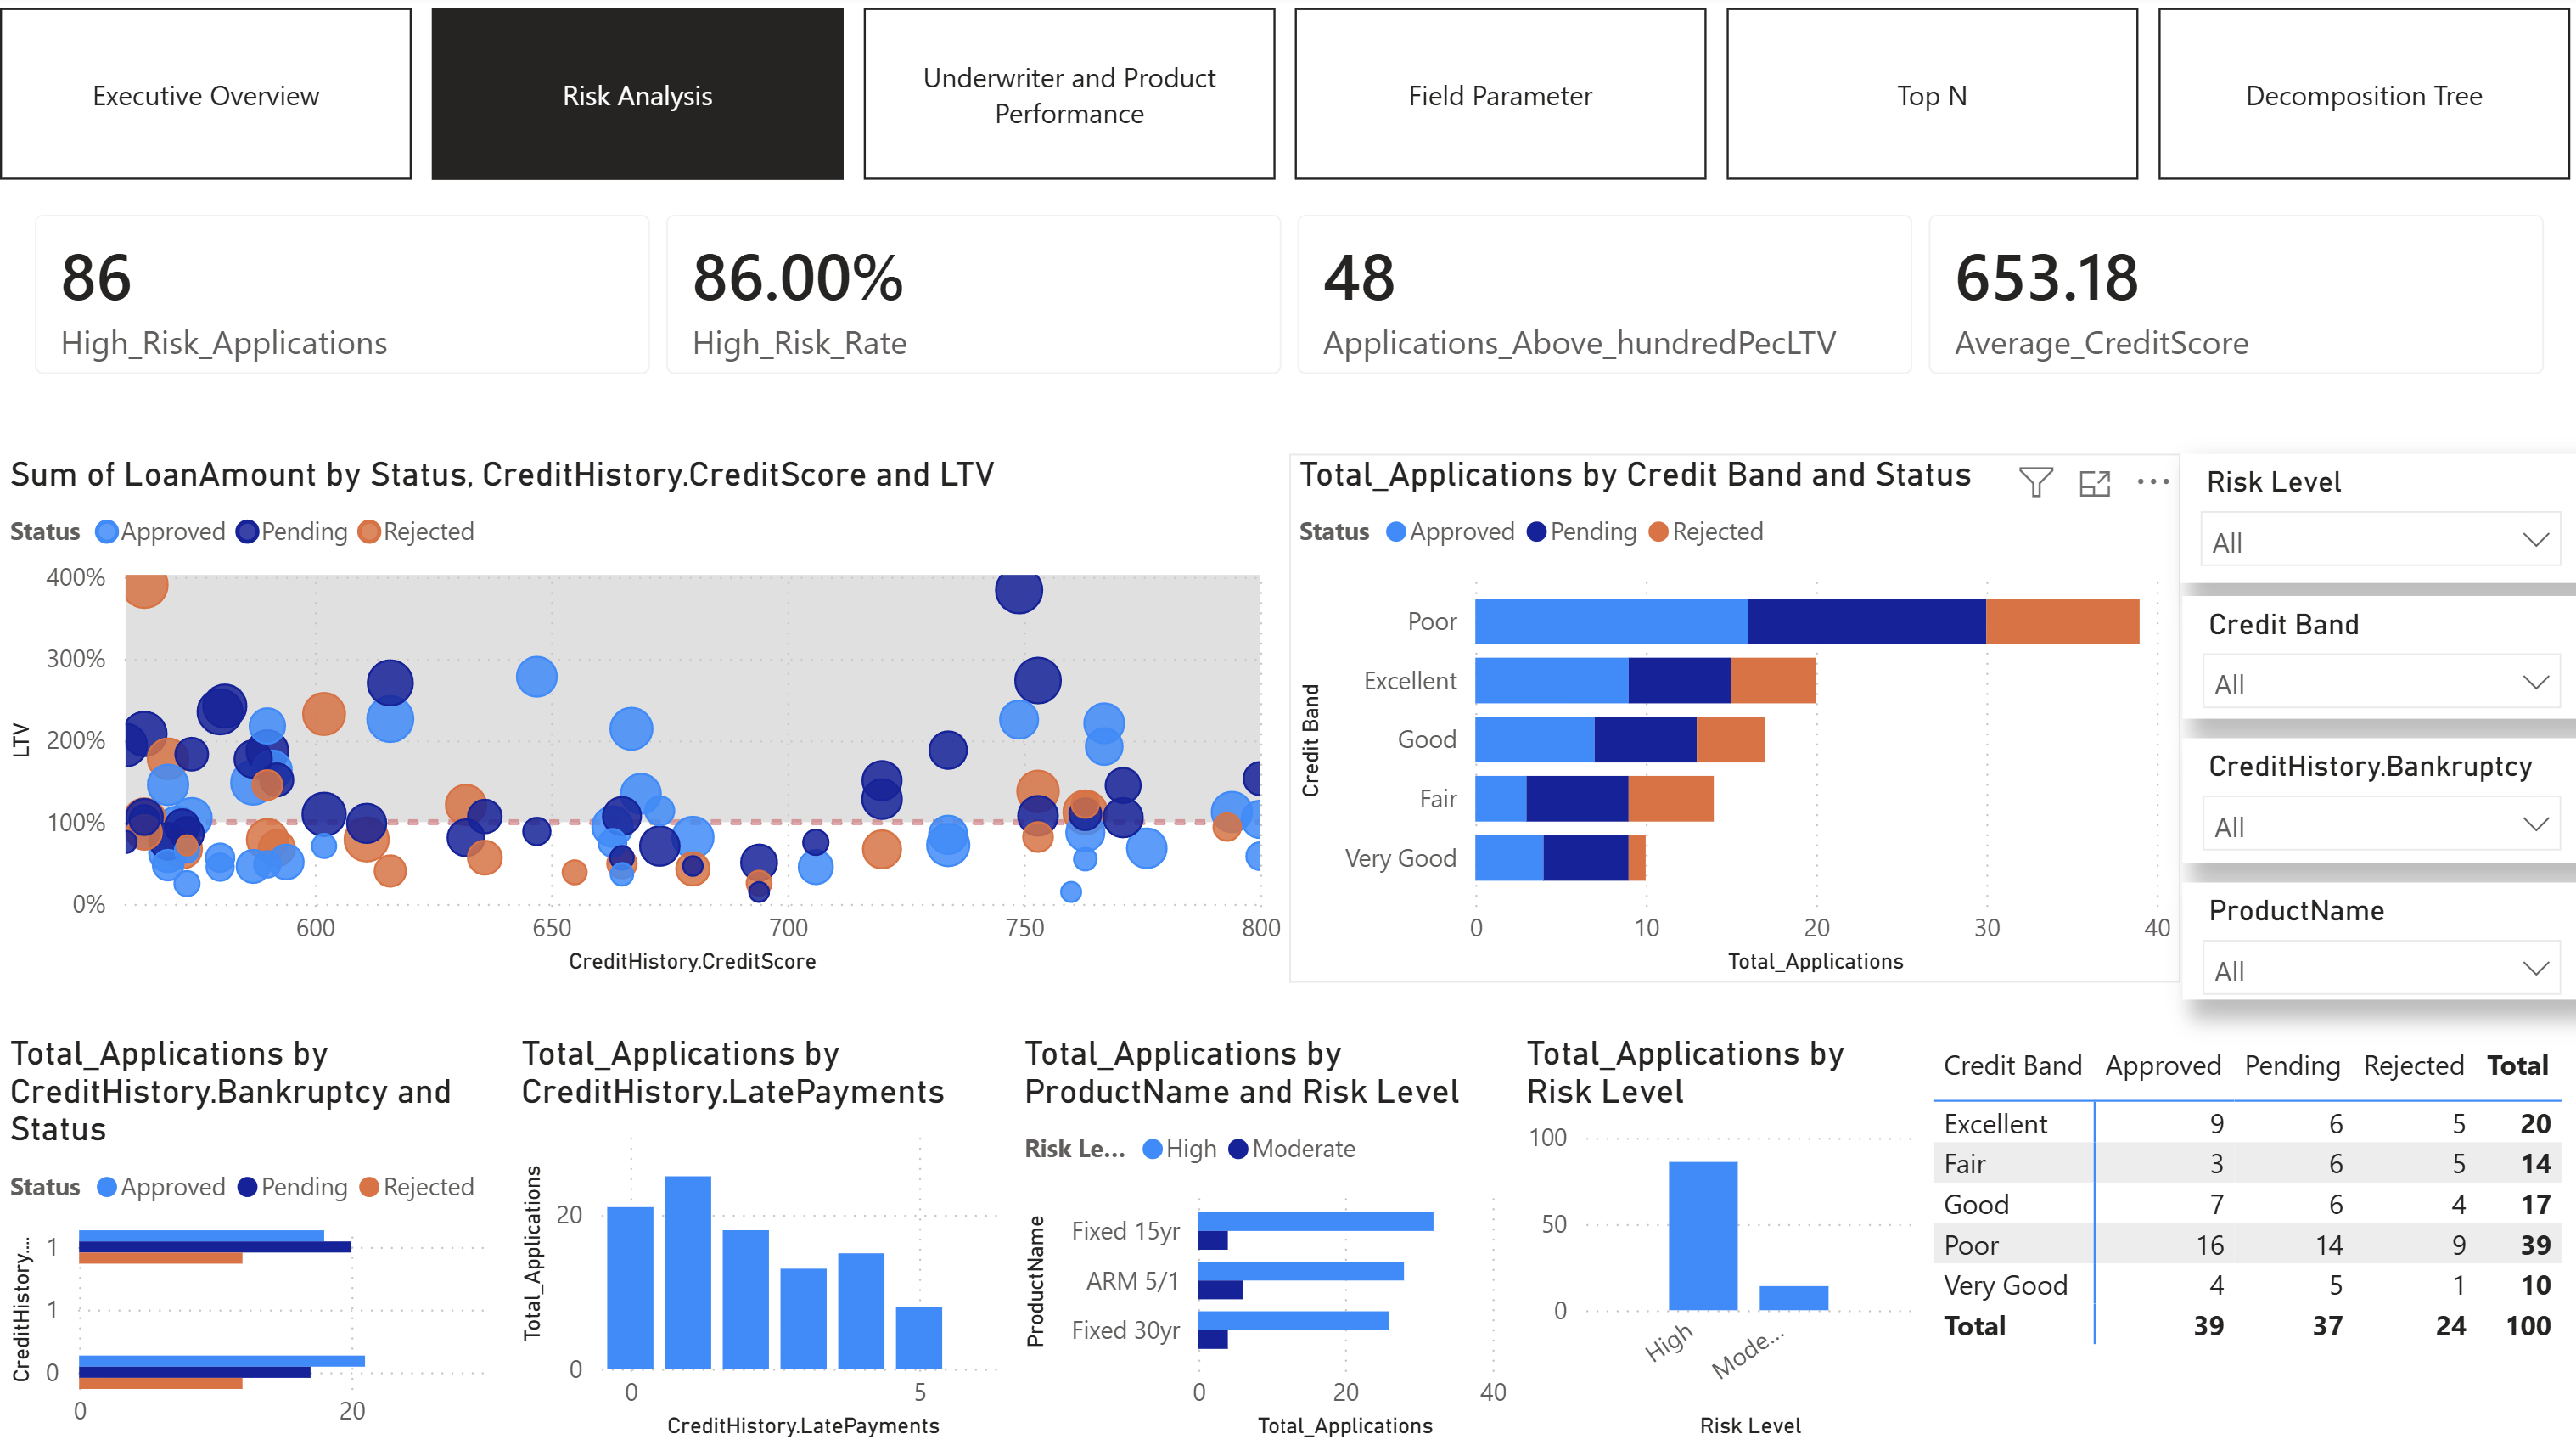

Layout of this report page (visuals, bound fields, positions):
{"tool":"powerbi","page":{"name":"Risk Analysis","canvas":[1280,720],"ordinal":1},"visuals":[{"type":"cardVisual","fields":{"Data":["Measure_Table.High_Risk_Applications","Measure_Table.High_Risk_Rate","Measure_Table.Applications_Above_hundredPecLTV","Measure_Table.Average_CreditScore"]},"box":[0,92.5,1280.6,113.6],"z":0},{"type":"columnChart","fields":{"Category":["FactApplications.Risk Level"],"Y":["Measure_Table.Total_Applications"]},"box":[751.8,515.2,201.9,205],"z":1000},{"type":"barChart","fields":{"Y":["Measure_Table.Total_Applications"],"Category":["DimApplicants.Credit Band"],"Series":["FactApplications.Status"]},"box":[639.3,228.2,441.6,261.8],"z":2000},{"type":"clusteredBarChart","fields":{"Category":["DimProducts.ProductName"],"Series":["FactApplications.Risk Level"],"Y":["Measure_Table.Total_Applications"]},"box":[502.6,515.2,249.2,205],"z":3000},{"type":"clusteredBarChart","fields":{"Category":["DimApplicants.CreditHistory.Bankruptcy"],"Y":["Measure_Table.Total_Applications"],"Series":["FactApplications.Status"]},"box":[0,515.2,253.4,205],"z":4000},{"type":"columnChart","fields":{"Category":["DimApplicants.CreditHistory.LatePayments"],"Y":["Measure_Table.Total_Applications"]},"box":[253.4,515.2,249.2,205],"z":5000},{"type":"pivotTable","fields":{"Rows":["DimApplicants.Credit Band"],"Values":["Measure_Table.Total_Applications"],"Columns":["FactApplications.Status"]},"box":[953.6,515.2,327,205],"z":6000},{"type":"scatterChart","fields":{"X":["DimApplicants.CreditHistory.CreditScore"],"Y":["FactApplications.LTV"],"Series":["FactApplications.Status"],"Size":["Sum(FactApplications.LoanAmount)"]},"box":[0,228.2,639.3,261.8],"z":7000},{"type":"slicer","fields":{"Values":["FactApplications.Risk Level"]},"box":[1080.8,228.2,198.7,64.1],"z":8000},{"type":"slicer","fields":{"Values":["DimApplicants.Credit Band"]},"box":[1081.9,298.6,197.7,61],"z":9000},{"type":"slicer","fields":{"Values":["DimApplicants.CreditHistory.Bankruptcy"]},"box":[1081.9,369,197.7,62],"z":10000},{"type":"slicer","fields":{"Values":["DimProducts.ProductName"]},"box":[1081.9,440.5,197.7,57.8],"z":11000},{"type":"pageNavigator","box":[0,7.4,1279.6,85.2],"z":11001}]}

Visuals, with their boxes in screenshot pixels (x1, y1, x2, y2), scaled from the page's 1280x720 canvas onto the 2576x1445 screenshot:
cardVisual - Measure_Table.High_Risk_Applications x Measure_Table.High_Risk_Rate: [0,186,2575,413]
columnChart - FactApplications.Risk Level x Measure_Table.Total_Applications: [1513,1034,1919,1444]
barChart - Measure_Table.Total_Applications x DimApplicants.Credit Band: [1287,458,2175,983]
clusteredBarChart - DimProducts.ProductName x FactApplications.Risk Level: [1012,1034,1513,1444]
clusteredBarChart - DimApplicants.CreditHistory.Bankruptcy x Measure_Table.Total_Applications: [0,1034,510,1444]
columnChart - DimApplicants.CreditHistory.LatePayments x Measure_Table.Total_Applications: [510,1034,1012,1444]
pivotTable - DimApplicants.Credit Band x Measure_Table.Total_Applications: [1919,1034,2575,1444]
scatterChart - DimApplicants.CreditHistory.CreditScore x FactApplications.LTV: [0,458,1287,983]
slicer - FactApplications.Risk Level: [2175,458,2575,587]
slicer - DimApplicants.Credit Band: [2177,599,2575,722]
slicer - DimApplicants.CreditHistory.Bankruptcy: [2177,740,2575,865]
slicer - DimProducts.ProductName: [2177,884,2575,1000]
pageNavigator: [0,14,2575,186]
